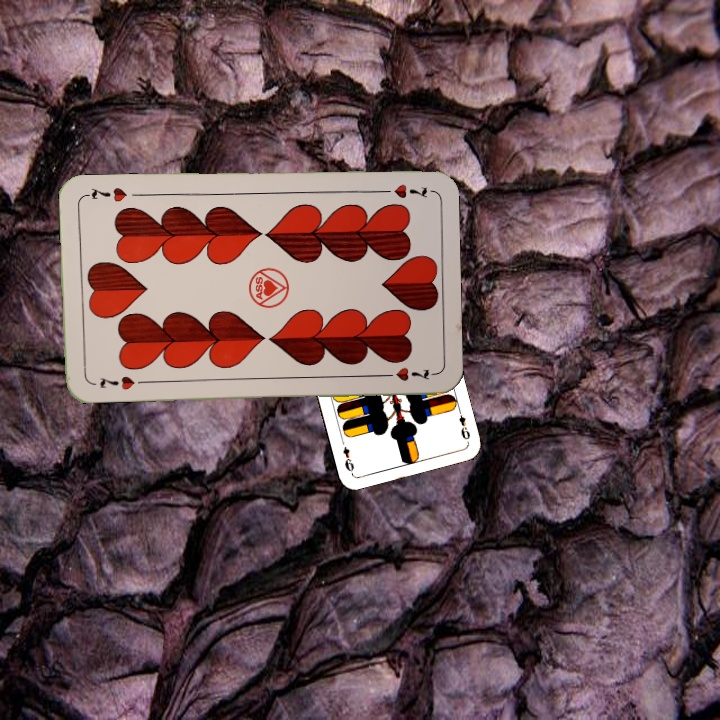E9: (454, 404, 473, 444)
H7: (373, 180, 430, 201), (96, 372, 137, 393)
